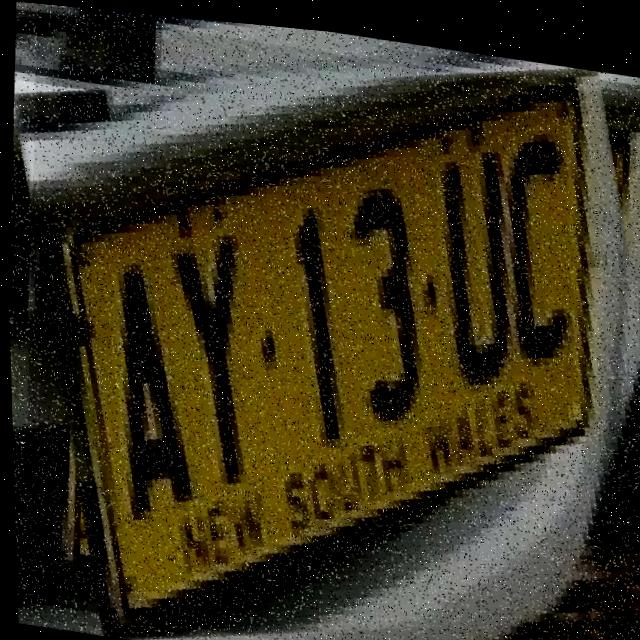LicensePlate: (6, 5, 640, 640)
